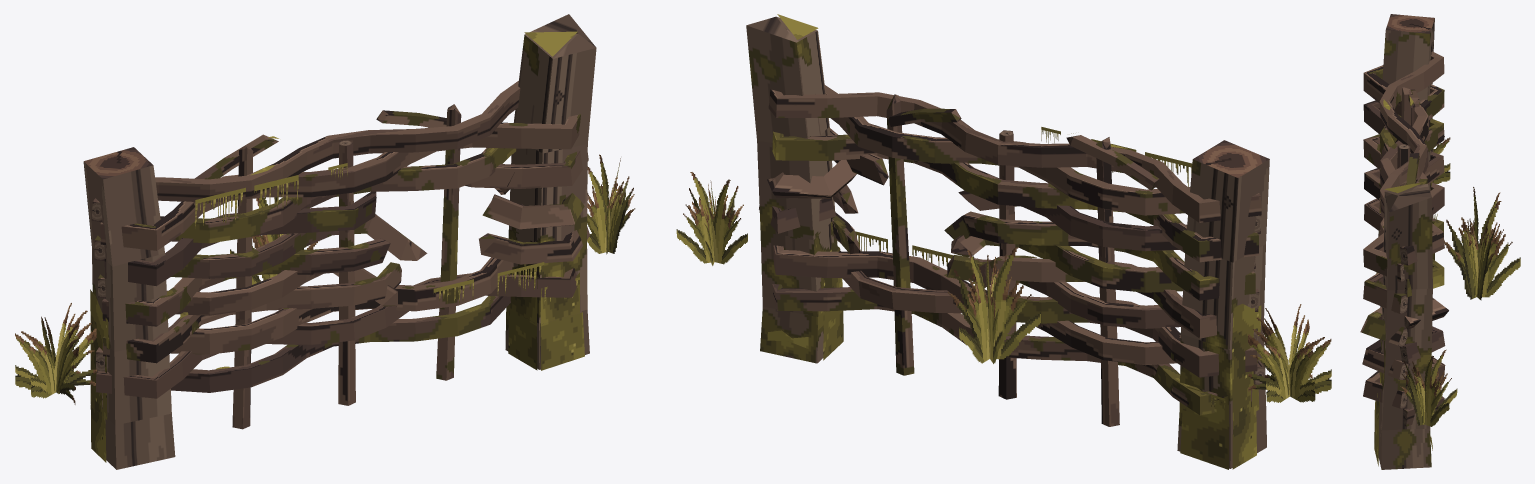
File: SM_SW19_WaterFenceWattle.fbx
The picture shows the model from 3 angles, left to right: view 1: azimuth 30°, elevation 25°; view 2: azimuth 150°, elevation 25°; view 3: azimuth 270°, elevation 25°; orthographic projection. The views are drawn at different scales.
Visible parts, largest first — view 1: SW19b_Bark, SW19b_Planks, SW19b_Plants, SW19b_Moss, SW19b_Props; view 2: SW19b_Bark, SW19b_Planks, SW19b_Plants, SW19b_Moss, SW19b_Props; view 3: SW19b_Bark, SW19b_Planks, SW19b_Plants, SW19b_Props, SW19b_Moss.
Part boxes in pixels (x1,y1,x2,y2): SW19b_Bark: [93, 80, 589, 429]; SW19b_Planks: [83, 14, 596, 469]; SW19b_Plants: [15, 154, 635, 404]; SW19b_Moss: [90, 31, 584, 462]; SW19b_Props: [84, 140, 352, 408]; SW19b_Bark: [759, 85, 1264, 426]; SW19b_Planks: [746, 16, 1269, 468]; SW19b_Plants: [676, 127, 1331, 409]; SW19b_Moss: [767, 14, 1261, 469]; SW19b_Props: [999, 130, 1269, 384]; SW19b_Bark: [1360, 51, 1448, 426]; SW19b_Planks: [1376, 18, 1434, 469]; SW19b_Plants: [1376, 136, 1520, 426]; SW19b_Props: [1386, 14, 1434, 426]; SW19b_Moss: [1374, 96, 1435, 466].
Bounding box in the file's own units: 3.03 × 1.47 × 0.7707.
